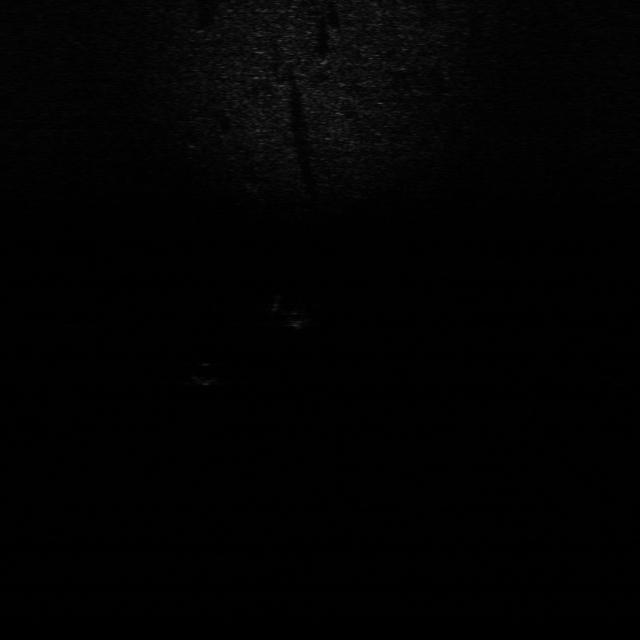ball: (189, 359, 223, 386)
human body: (266, 295, 310, 333)
